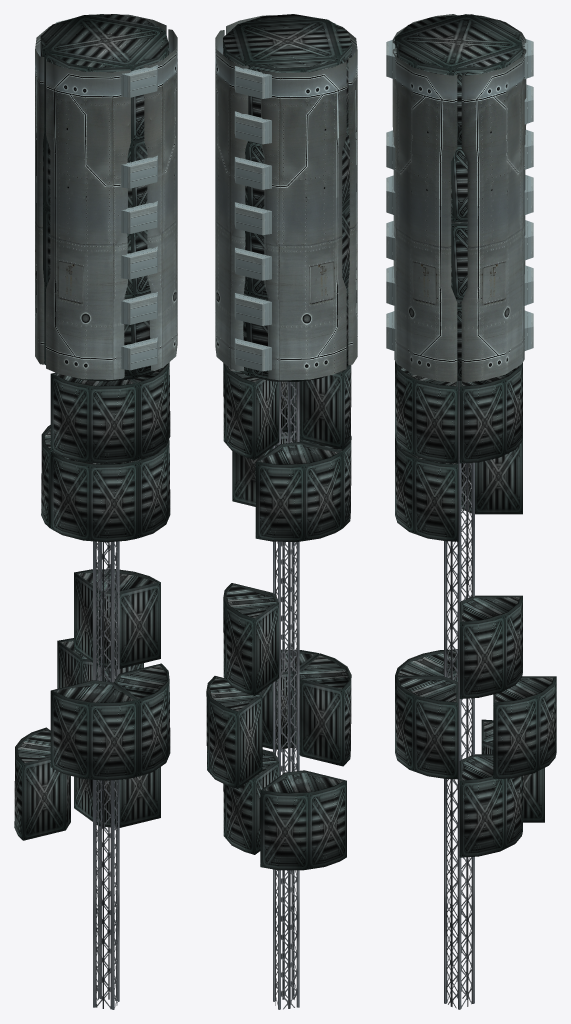
The model's file is MidSection.fbx.
3 views of the same model, side by side, from view 1: azimuth 30°, elevation 25°; view 2: azimuth 150°, elevation 25°; view 3: azimuth 270°, elevation 25° (orthographic).
Visible parts, largest first — view 1: CargoContaintersSec_LOD0, CargoContainterSectionOuter_LOD0, CargoContaintersSec_Barrel, CentralBeam; view 2: CargoContaintersSec_LOD0, CargoContainterSectionOuter_LOD0, CargoContaintersSec_Barrel, CentralBeam; view 3: CargoContaintersSec_LOD0, CargoContainterSectionOuter_LOD0, CentralBeam, CargoContaintersSec_Barrel.
Boxes of the visible parts, x1,y1,x2,y2 form: CargoContaintersSec_LOD0: (14,362,170,840); CargoContainterSectionOuter_LOD0: (35,14,177,379); CargoContaintersSec_Barrel: (40,14,169,381); CentralBeam: (93,541,119,1009); CargoContaintersSec_LOD0: (206,363,351,870); CargoContainterSectionOuter_LOD0: (215,15,357,380); CargoContaintersSec_Barrel: (223,14,351,381); CentralBeam: (273,381,299,1009); CargoContaintersSec_LOD0: (395,361,556,857); CargoContainterSectionOuter_LOD0: (386,14,533,382); CentralBeam: (444,381,474,1009); CargoContaintersSec_Barrel: (394,14,522,380).
Bounding box in the file's own units: 422 × 2873 × 462.
